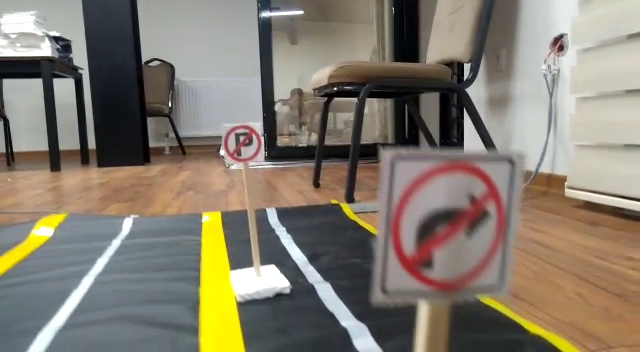park_yapilmaz: (220, 125, 266, 164)
saga_donulmez: (378, 151, 508, 295)
